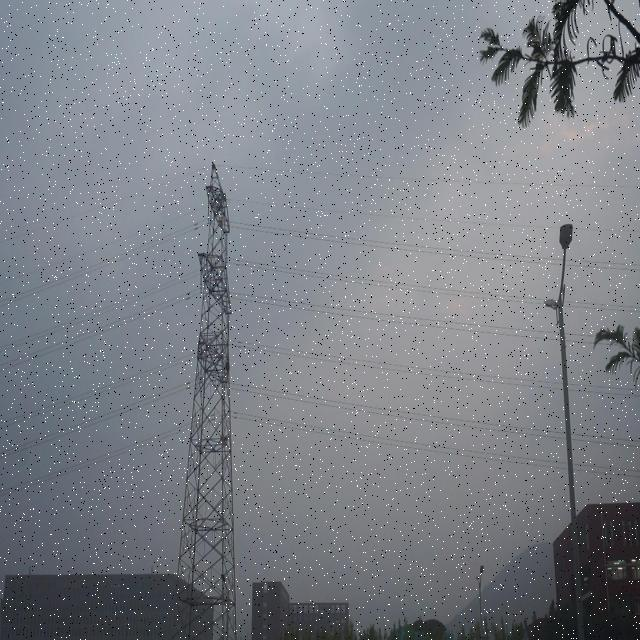UAV: (220, 435, 230, 443)
